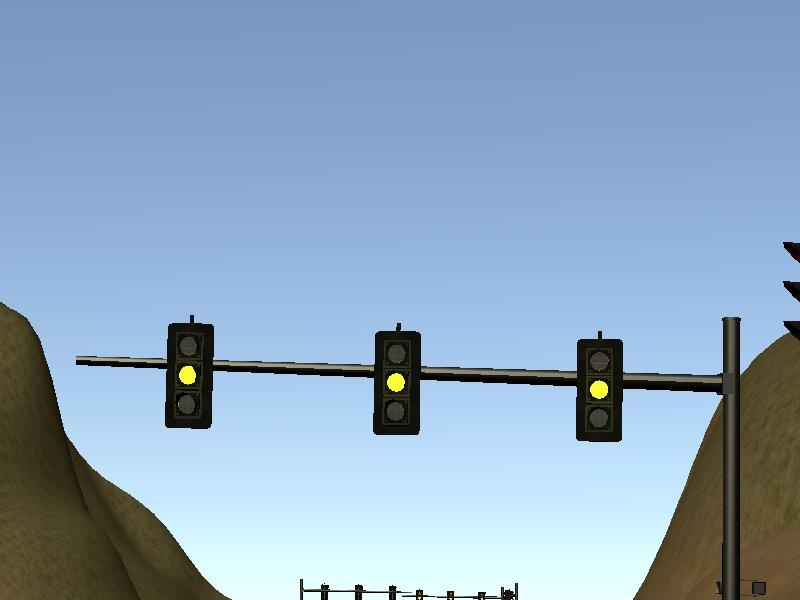YELLOW: (576, 338, 626, 445), (371, 328, 421, 435), (165, 323, 215, 430)
